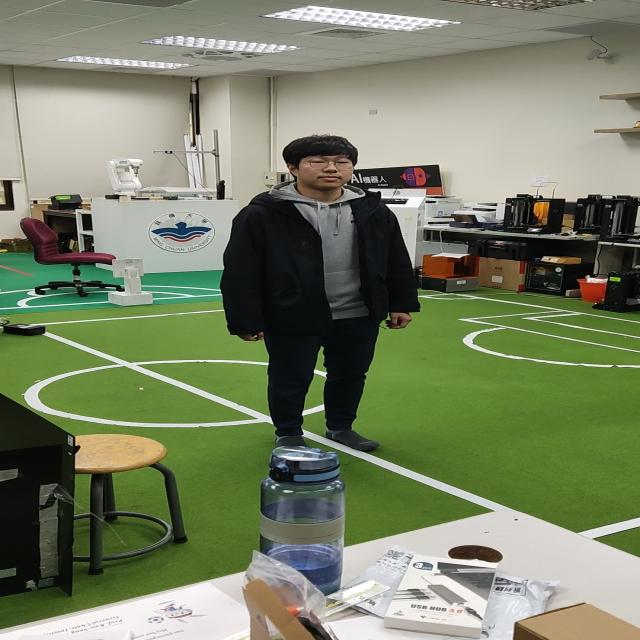person: (213, 126, 433, 436)
